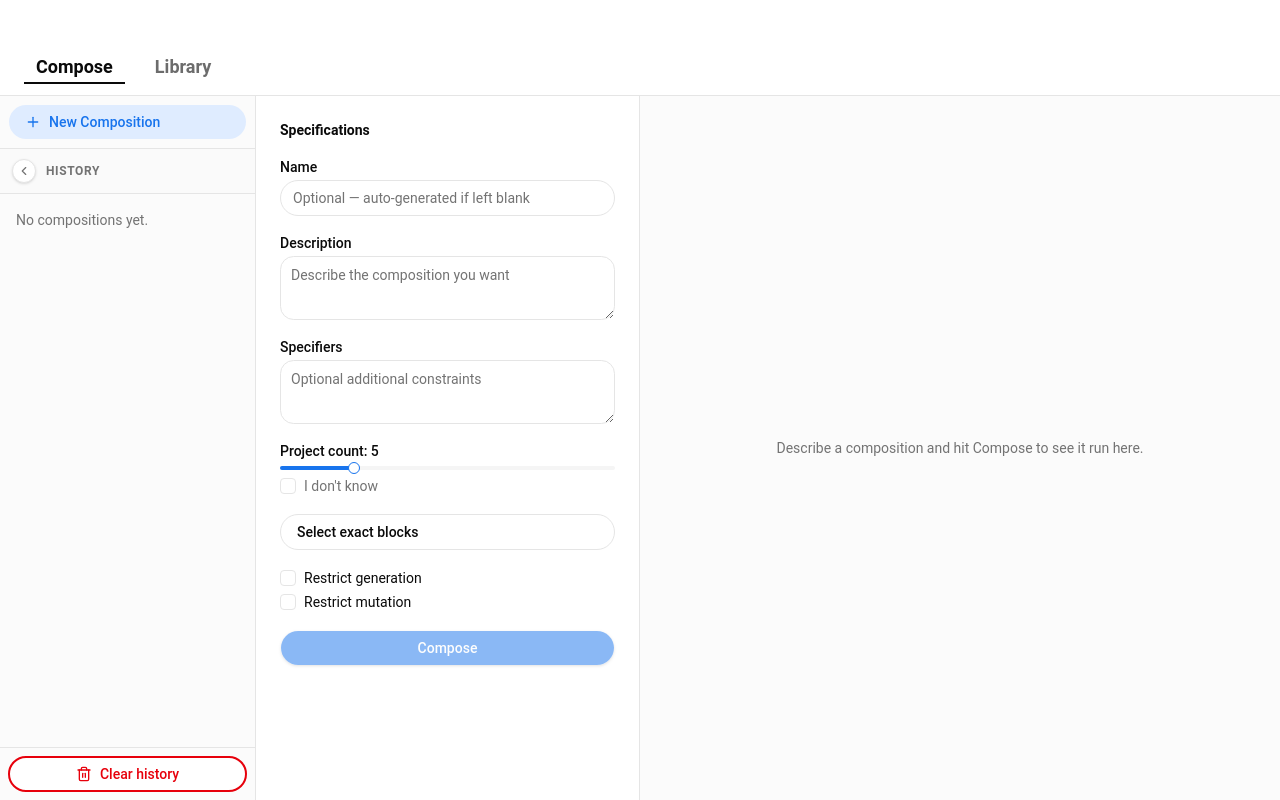
Test: once authenticated, the user can switch between Compose and Library tabs and see each one's content
Expected: the tab "Compose" is shown, [23,54,126,80]
Expected: the heading "Specifications" is shown, [280,122,370,138]
Click the tab "Library" at (183, 67), box [142,54,224,80]
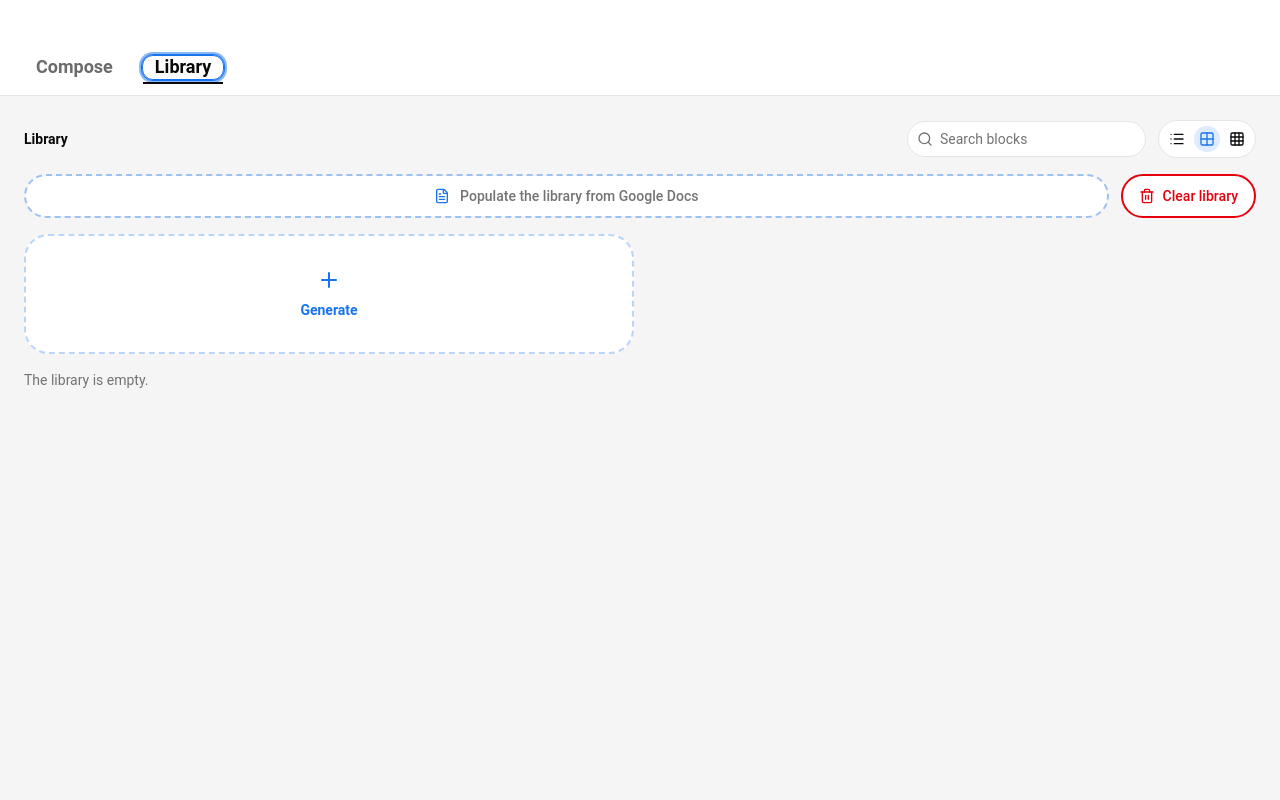
Result: the field with placeholder "Search blocks" is shown at [907,121,1146,157]
Click the tab "Compose" at (74, 67), box [23,54,126,80]
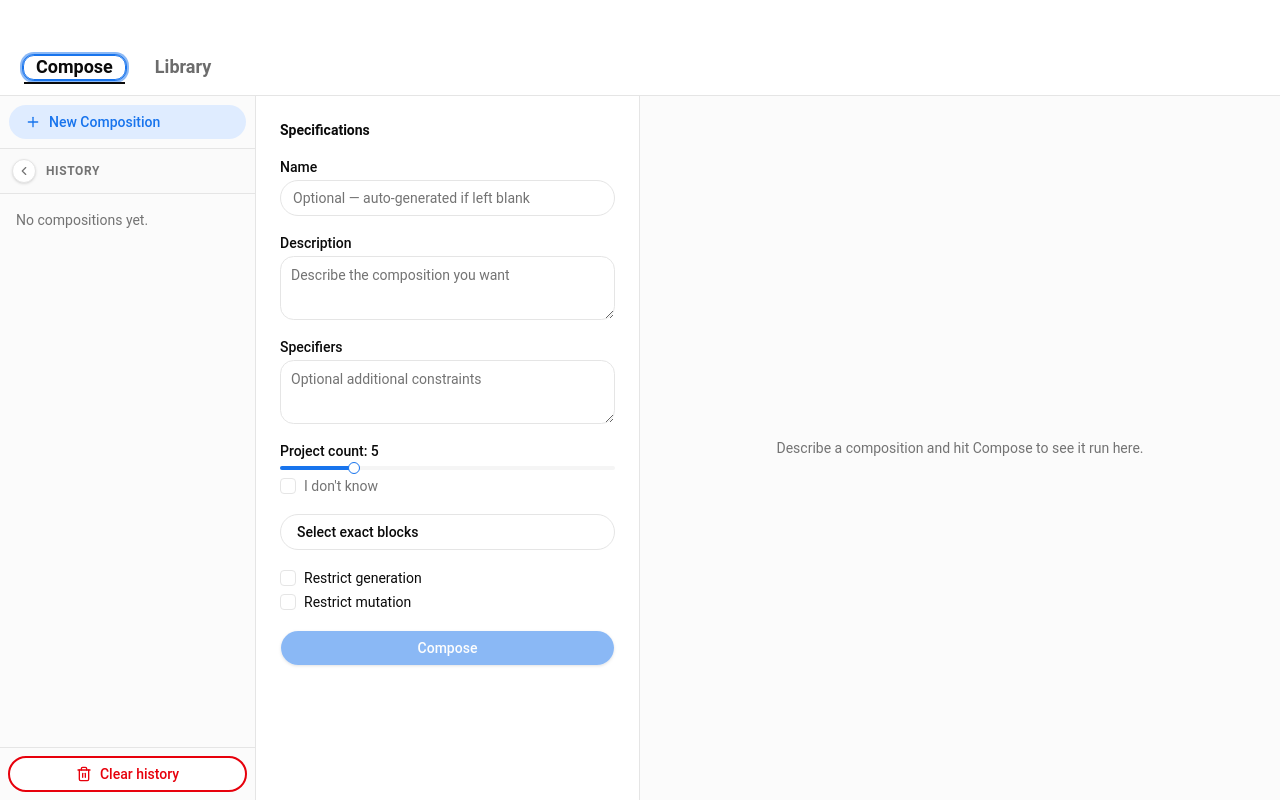
Result: the heading "Specifications" is shown at [280,122,370,138]
